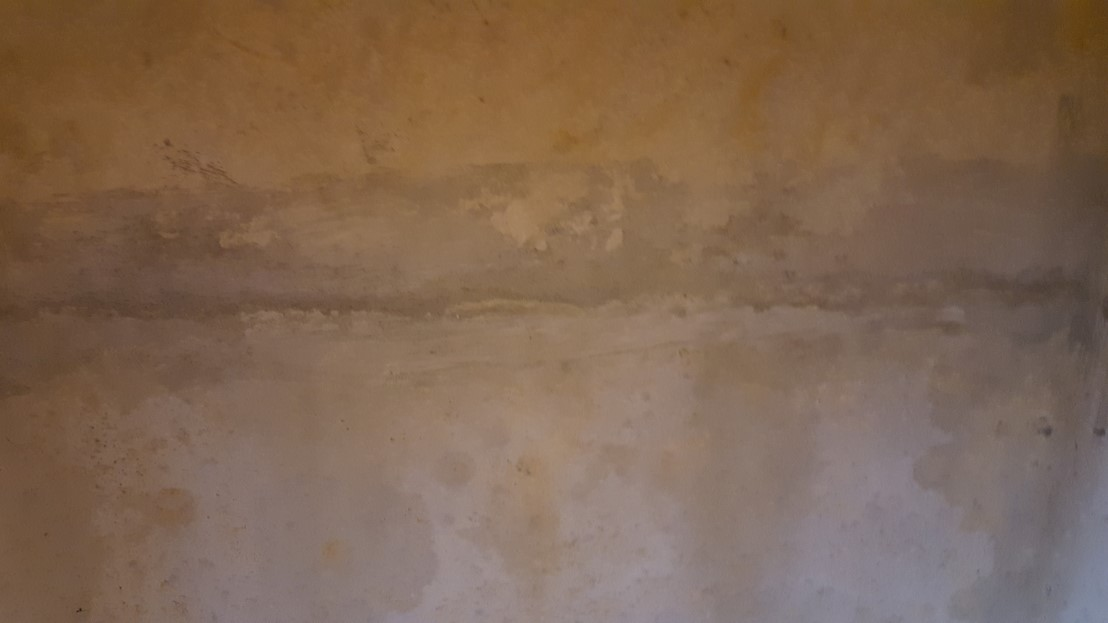Crack: (0, 270, 1108, 333)
